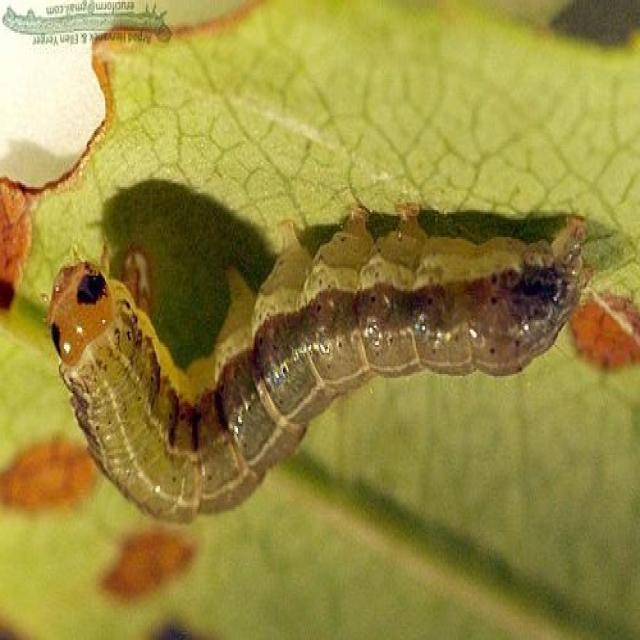black cutworm: (32, 224, 582, 534)
